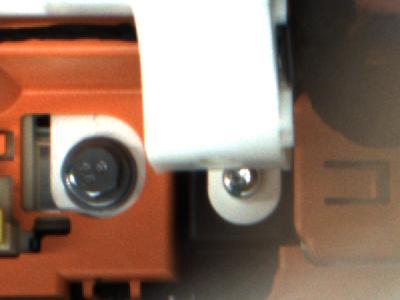nut_b: (52, 130, 144, 220)
